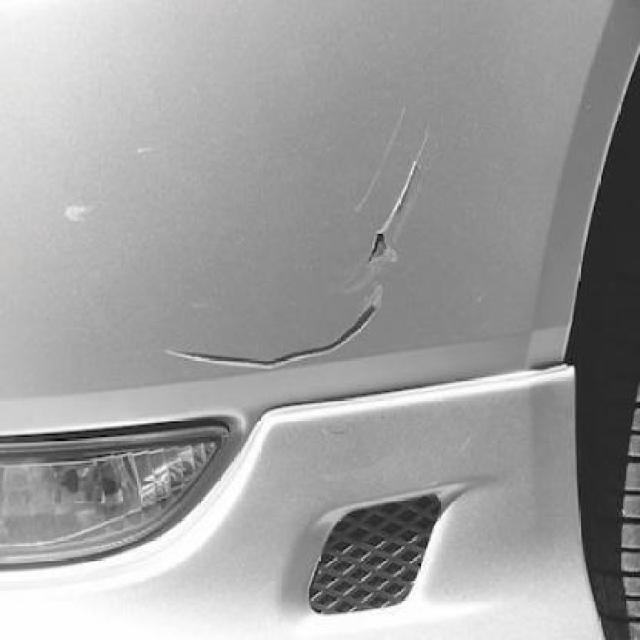scratch: (158, 284, 408, 397), (335, 95, 452, 295)
